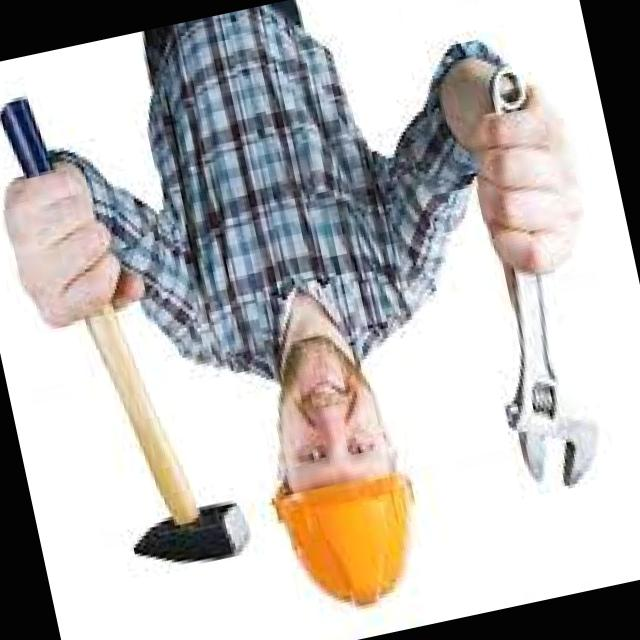hammer: (86, 311, 249, 563), (0, 99, 51, 177)
wrench: (503, 264, 596, 485)
